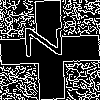Z: (25, 25, 72, 58)
